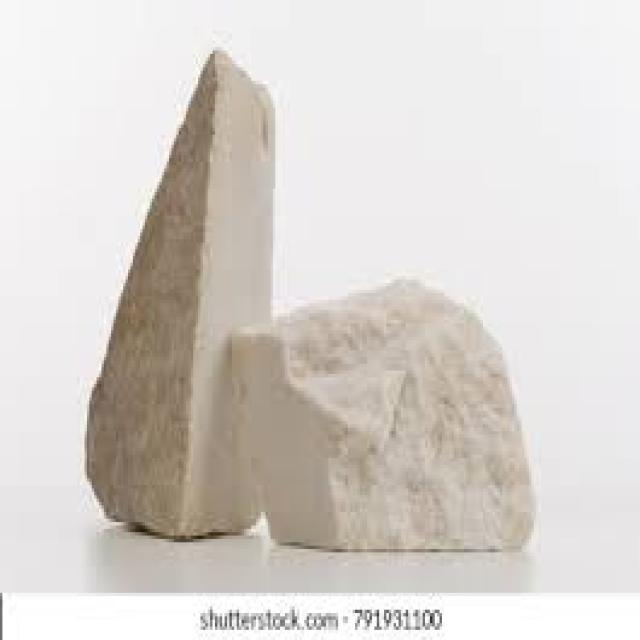Metamorphic: (60, 44, 553, 562)
